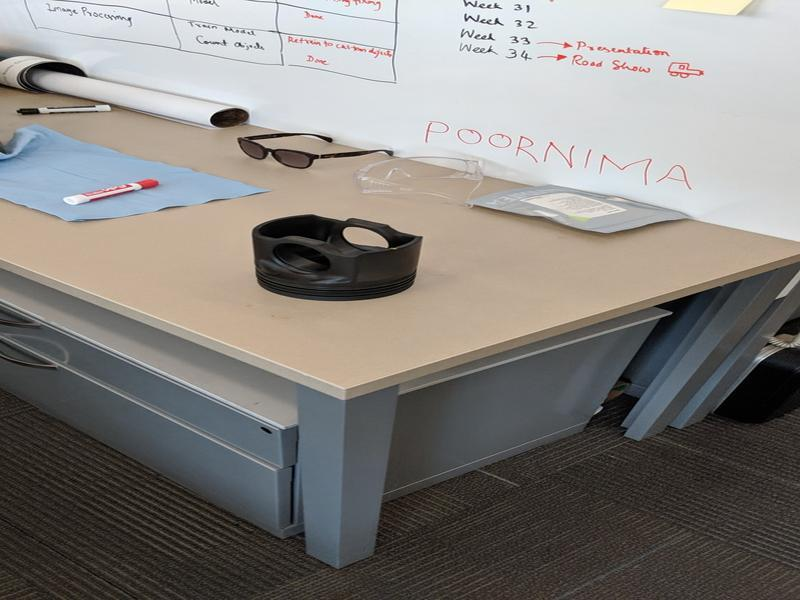piston: (248, 209, 426, 305)
